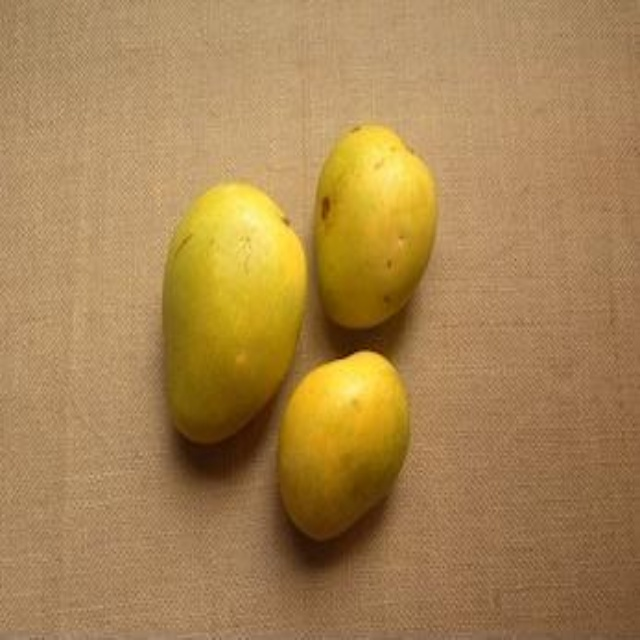mango: (157, 190, 300, 442), (315, 125, 438, 329), (283, 354, 405, 538)
